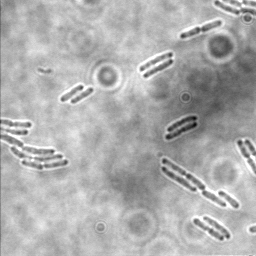Dividing: (160, 157, 205, 192), (179, 19, 223, 41), (235, 138, 256, 176), (138, 50, 174, 72), (192, 218, 224, 242), (163, 121, 199, 141), (166, 114, 198, 133), (60, 83, 84, 103)
Microcolony: (1, 118, 70, 171)
Rod: (160, 165, 197, 193), (202, 215, 231, 240), (142, 59, 174, 79), (200, 189, 227, 208), (213, 0, 241, 17), (70, 87, 94, 105), (217, 190, 239, 209)
